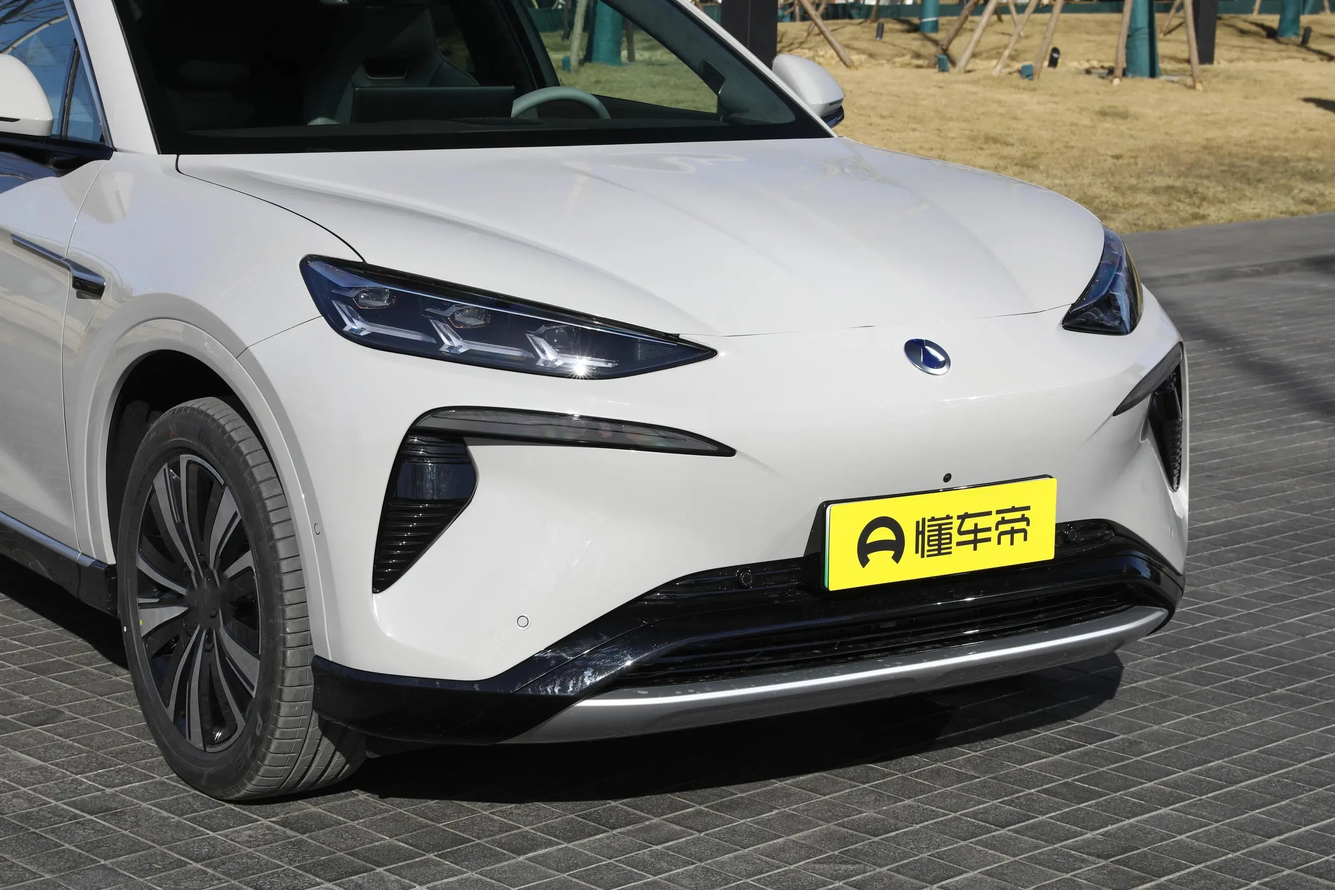DENZA: (904, 338, 951, 374)
